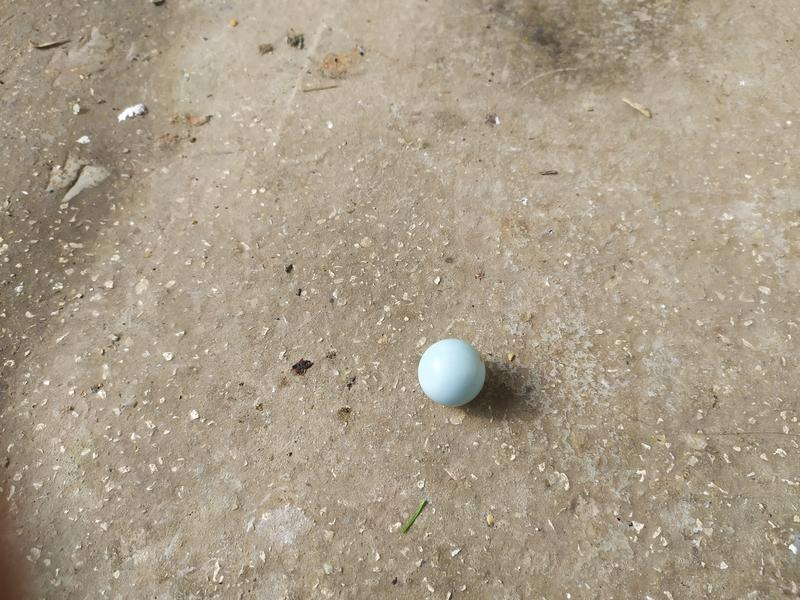Warning: (416, 336, 488, 410)
